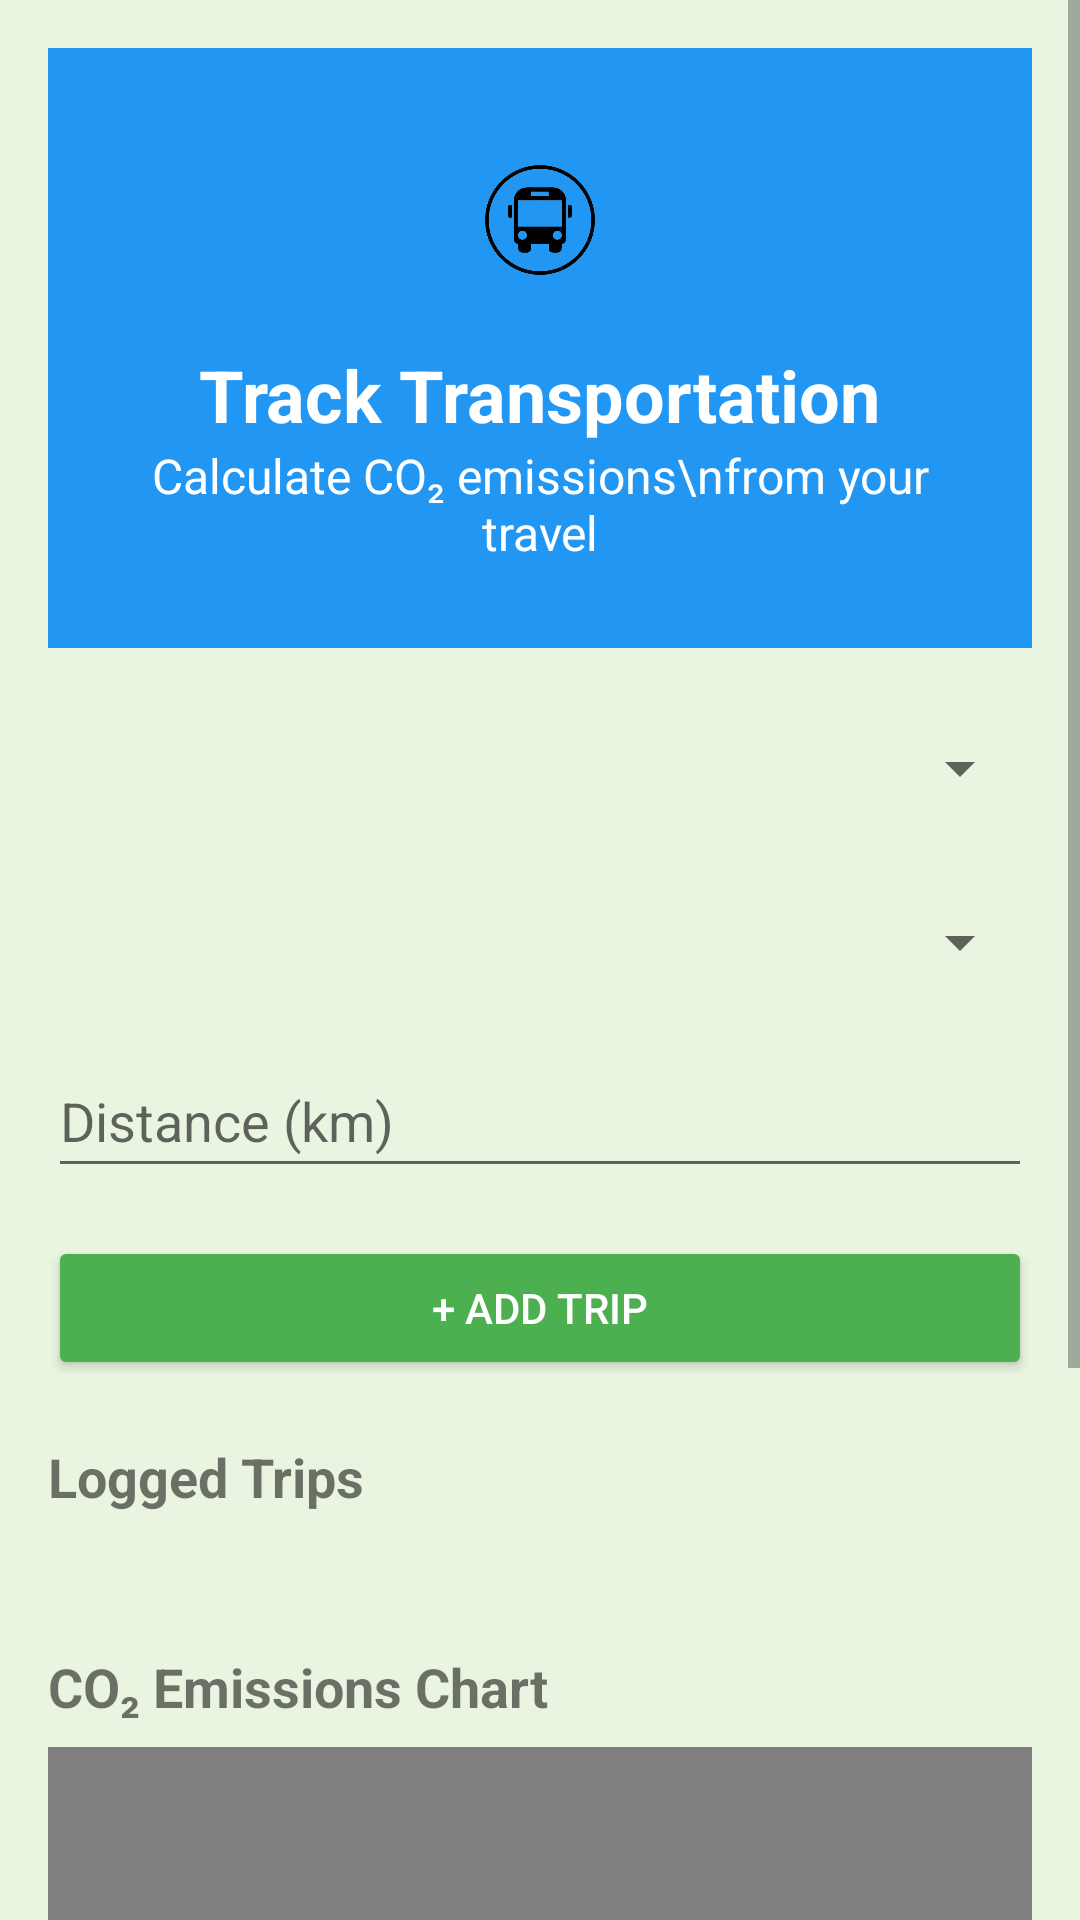

Named icons in this screenshot (1080px x 1920px) and their centers, (x=x, y=y):
Transport Icon: (x=540, y=220)
